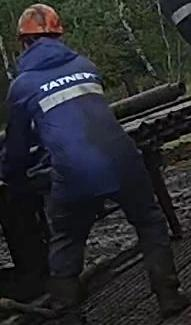helmet: (16, 3, 64, 40)
vest: (2, 37, 112, 202)
